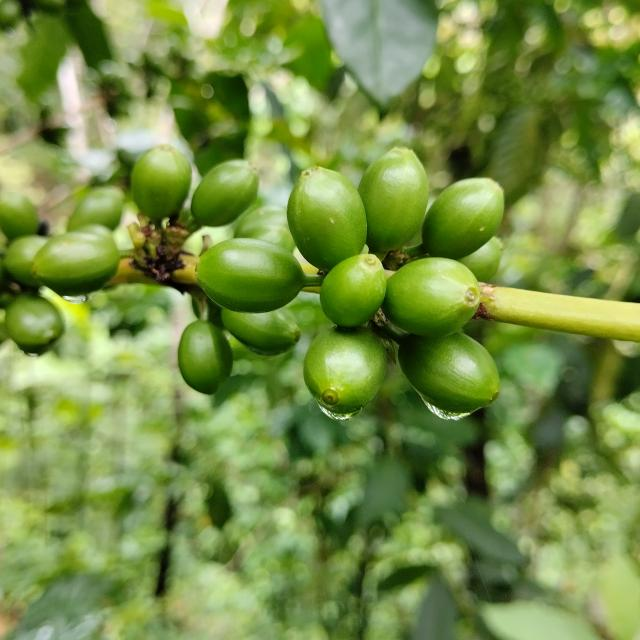green: (287, 166, 367, 272), (399, 332, 500, 414), (195, 238, 305, 313), (382, 257, 481, 338), (358, 147, 429, 257), (304, 327, 387, 420), (423, 177, 505, 259), (30, 231, 120, 296), (320, 254, 387, 328), (131, 144, 191, 220), (191, 159, 259, 226), (178, 320, 232, 394), (221, 308, 301, 356), (234, 205, 295, 252), (459, 236, 503, 282)
